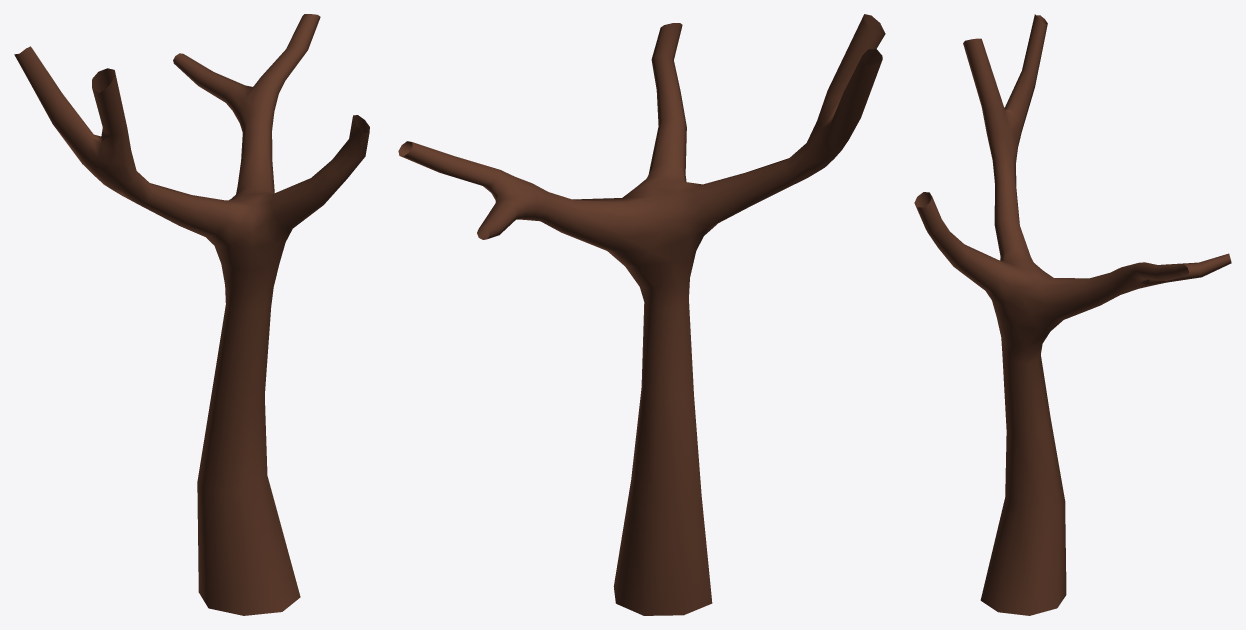
File: tree_03.fbx
The picture shows the model from 3 angles, left to right: view 1: azimuth 30°, elevation 25°; view 2: azimuth 150°, elevation 25°; view 3: azimuth 270°, elevation 25°; orthographic projection. The views are drawn at different scales.
Visible parts, largest first — view 1: tree2_Icosphere.001; view 2: tree2_Icosphere.001; view 3: tree2_Icosphere.001.
Part boxes in pixels (left/top/right/bottom): tree2_Icosphere.001: left=14, top=14, right=369, bottom=615; tree2_Icosphere.001: left=398, top=14, right=885, bottom=615; tree2_Icosphere.001: left=914, top=14, right=1231, bottom=615.
Bounding box in the file's own units: 276 × 402 × 233.
